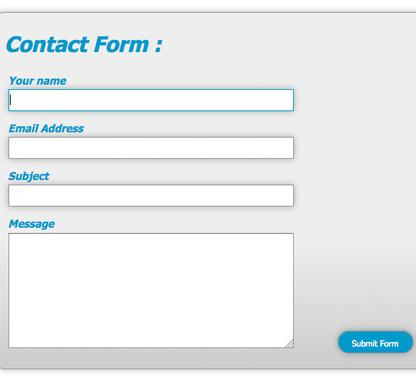button: (339, 330, 413, 354)
field: (7, 231, 295, 350), (7, 134, 295, 161), (7, 182, 295, 209), (7, 87, 295, 113)
field_with_label: (6, 219, 297, 352), (5, 123, 297, 163), (6, 75, 297, 115), (5, 171, 297, 210)
